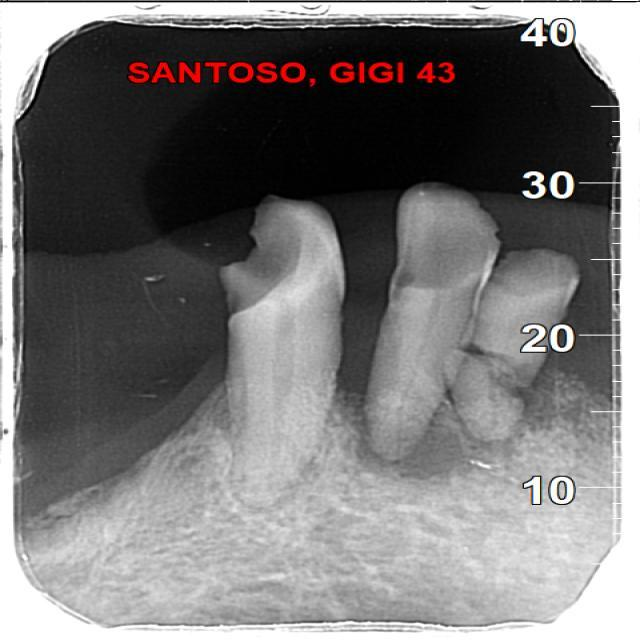individual-tooth-8tto: (367, 187, 504, 468), (226, 195, 342, 511), (446, 243, 580, 452)
